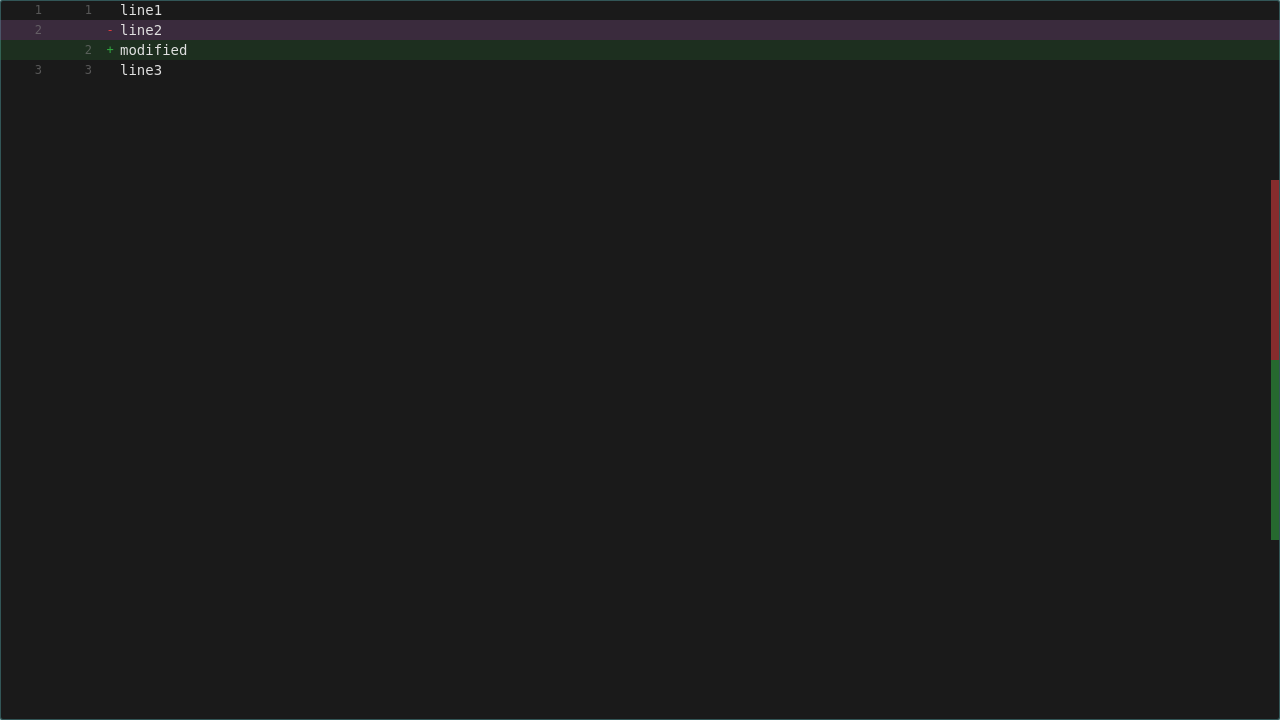
ShikiDiffViewer › file search (Cmd+F) › highlights matches and shows count
Press f in the element showing "1 1 line1 2 - line2 2 + modified 3 3 line3"
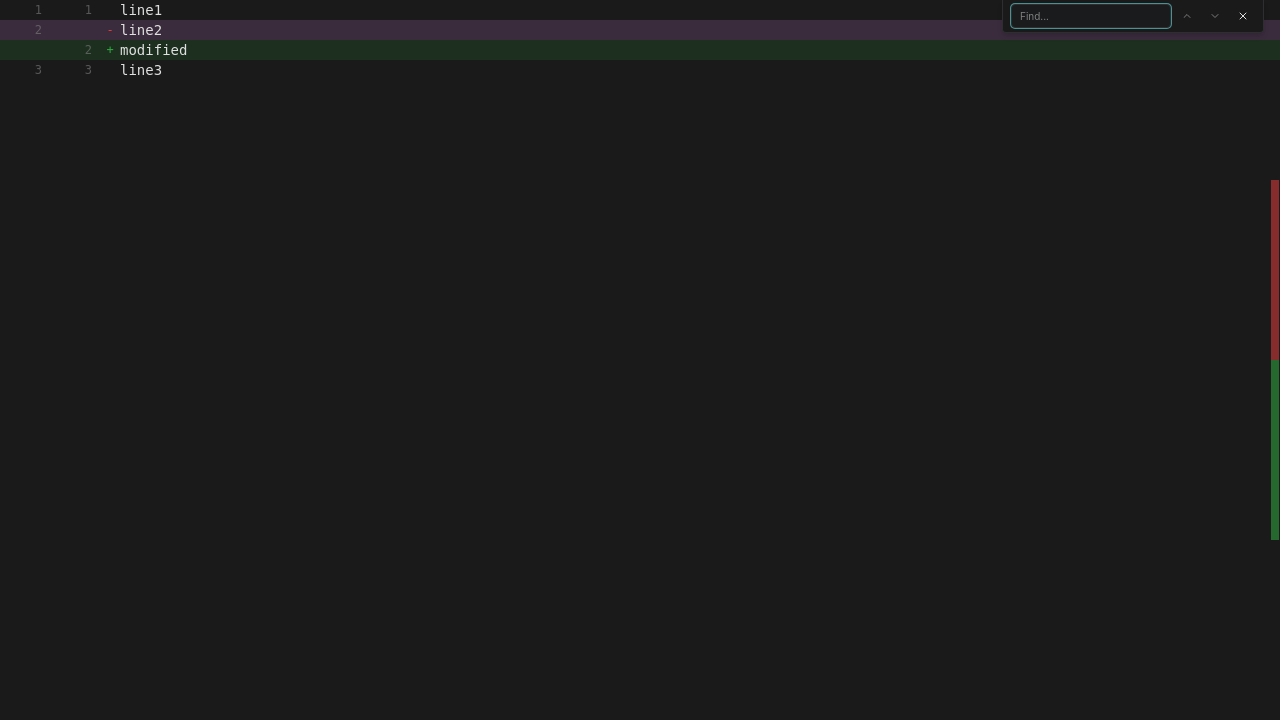
In the field with test id "diff-search-input": (1091, 16) [1011,4,1171,28], type "line"
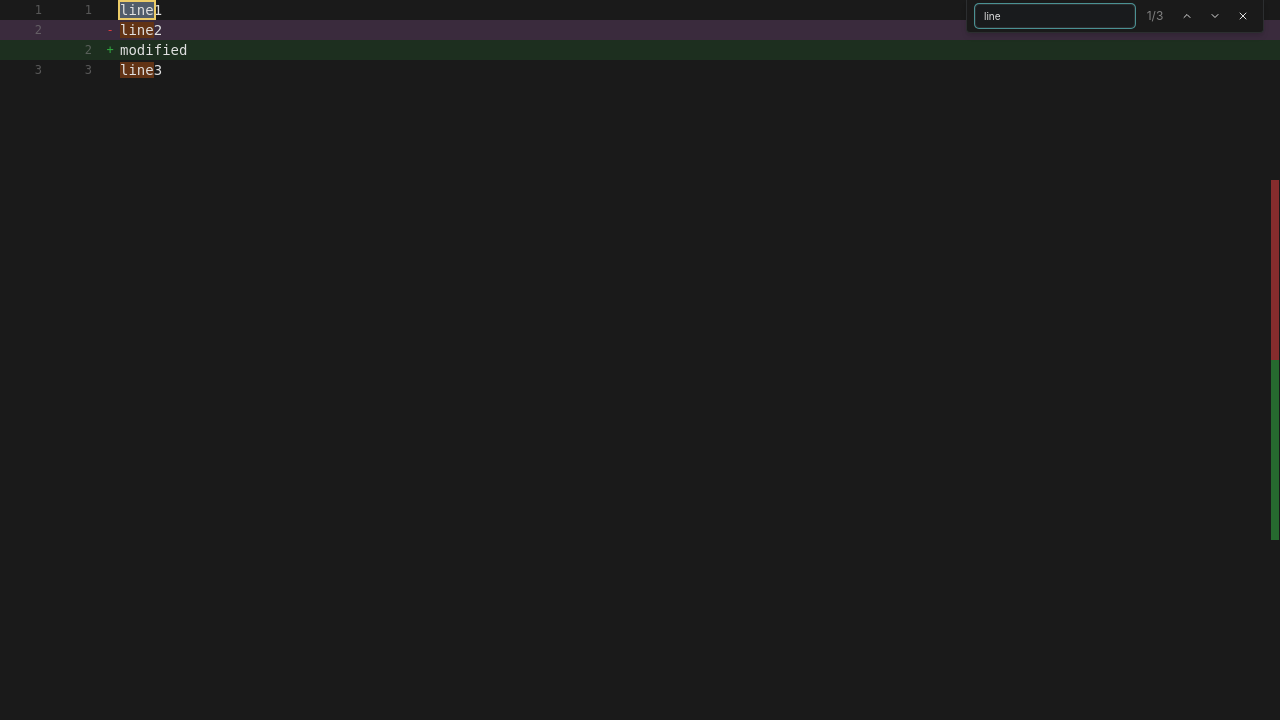
expect the 1st text "line" is shown: met, box [120,2,154,18]
expect the text "1/3" is shown: met, box [1147,8,1163,23]
